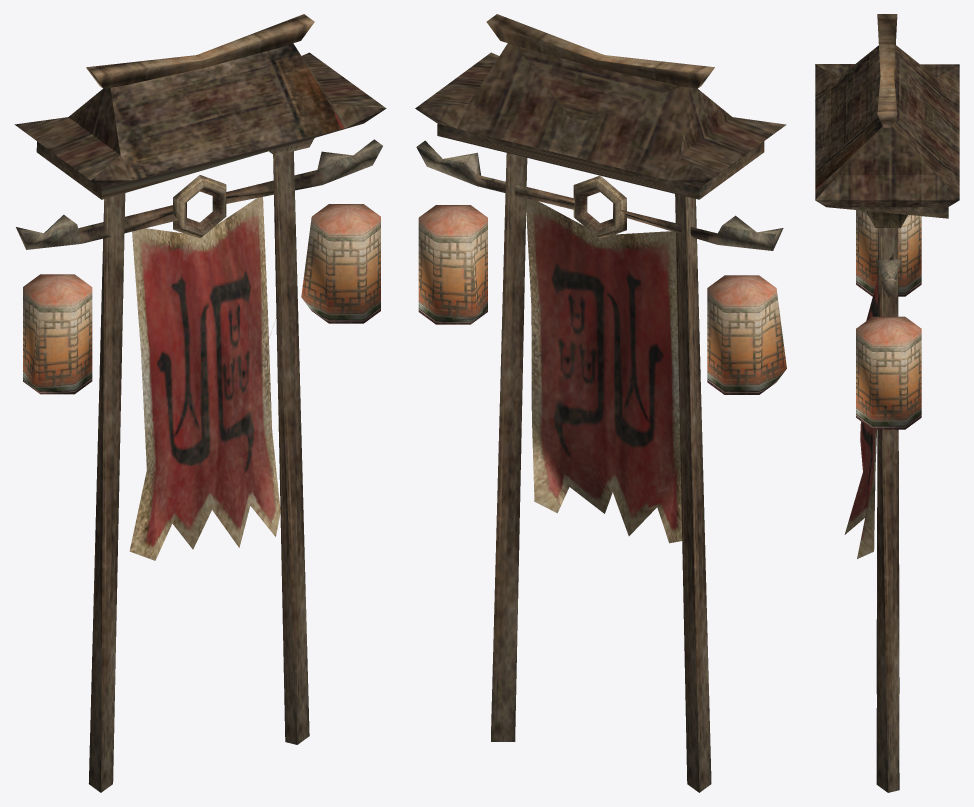
Rendered from desert_lamp01_lod_01.glb.
The picture shows the model from 3 angles, left to right: view 1: azimuth 30°, elevation 25°; view 2: azimuth 150°, elevation 25°; view 3: azimuth 270°, elevation 25°; orthographic projection. The views are drawn at different scales.
Visible parts, largest first — view 1: desert_lamp01; view 2: desert_lamp01; view 3: desert_lamp01.
Part boxes in pixels (x1=…): desert_lamp01: x1=14, y1=14, x2=386, y2=792; desert_lamp01: x1=415, y1=14, x2=786, y2=792; desert_lamp01: x1=815, y1=14, x2=959, y2=792.
Size of the model in its own units: 2.12 by 4.06 by 0.785.
Materials: 1 (1 with a texture image).
